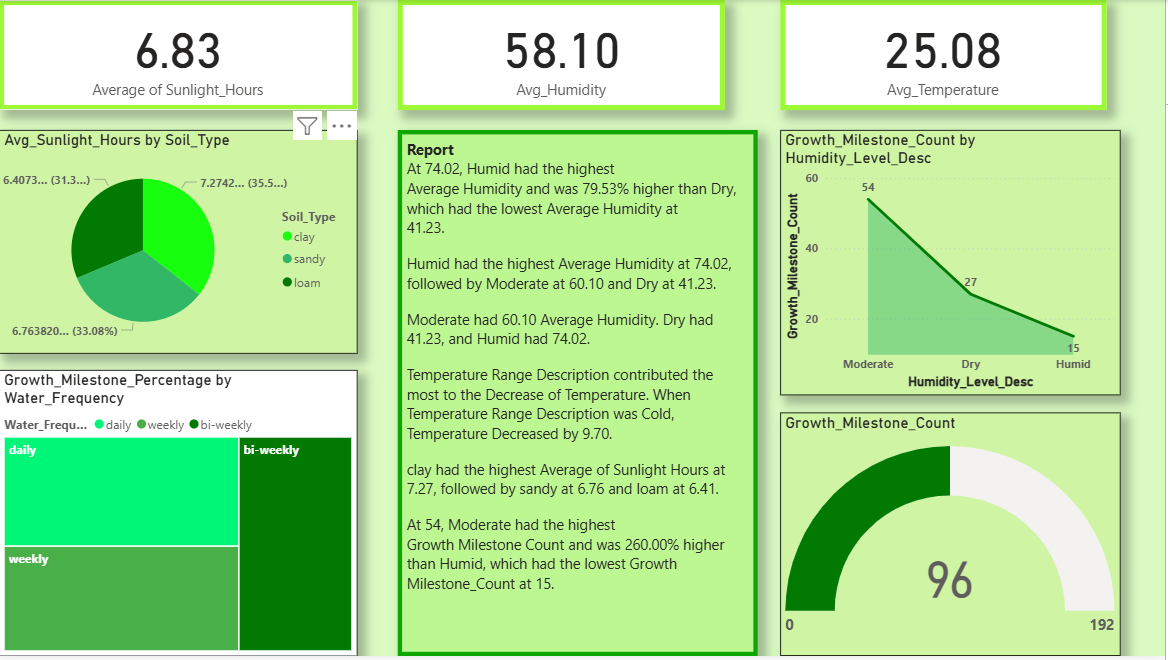

The dashboard page shown, as its layout file describes it:
{"tool":"powerbi","page":{"name":"Report","canvas":[1280,720],"ordinal":1},"visuals":[{"type":"pieChart","fields":{"Y":["plant_growth_data.Avg_Sunlight_Hours"],"Category":["plant_growth_data.Soil_Type"]},"box":[0,142.7,393.8,245.6],"z":0},{"type":"treemap","fields":{"Values":["plant_growth_data.Growth_Measure_Percentage"],"Group":["plant_growth_data.Water_Frequency"]},"box":[0,406.2,393.8,314.2],"z":1000},{"type":"areaChart","fields":{"Y":["plant_growth_data.Growth_Milestone_Count"],"Category":["plant_growth_data.Humidity_Level_Desc"]},"box":[857.6,142.7,373.2,290.9],"z":2000},{"type":"gauge","fields":{"Y":["plant_growth_data.Growth_Milestone_Count"]},"box":[857.6,452.8,373.2,267.6],"z":3000},{"type":"card","fields":{"Values":["Avg(plant_growth_data.Sunlight_Hours)"]},"box":[0,0,393.8,120.8],"z":4000},{"type":"card","fields":{"Values":["plant_growth_data.Avg_Humidity"]},"box":[437.7,0,359.5,120.8],"z":5000},{"type":"card","fields":{"Values":["plant_growth_data.Avg_Temperature"]},"box":[857.6,0,358.1,120.8],"z":6000},{"type":"textbox","box":[437.7,142.7,395.2,577.7],"z":6001}]}

Visuals, with their boxes in screenshot pixels (x1, y1, x2, y2), scaled from the page's 1280x720 canvas onto the 1168x660 screenshot:
pieChart - plant_growth_data.Avg_Sunlight_Hours x plant_growth_data.Soil_Type: box=[0, 131, 359, 356]
treemap - plant_growth_data.Growth_Measure_Percentage x plant_growth_data.Water_Frequency: box=[0, 372, 359, 659]
areaChart - plant_growth_data.Growth_Milestone_Count x plant_growth_data.Humidity_Level_Desc: box=[783, 131, 1123, 397]
gauge - plant_growth_data.Growth_Milestone_Count: box=[783, 415, 1123, 659]
card - Avg(plant_growth_data.Sunlight_Hours): box=[0, 0, 359, 111]
card - plant_growth_data.Avg_Humidity: box=[399, 0, 727, 111]
card - plant_growth_data.Avg_Temperature: box=[783, 0, 1109, 111]
textbox: box=[399, 131, 760, 659]
